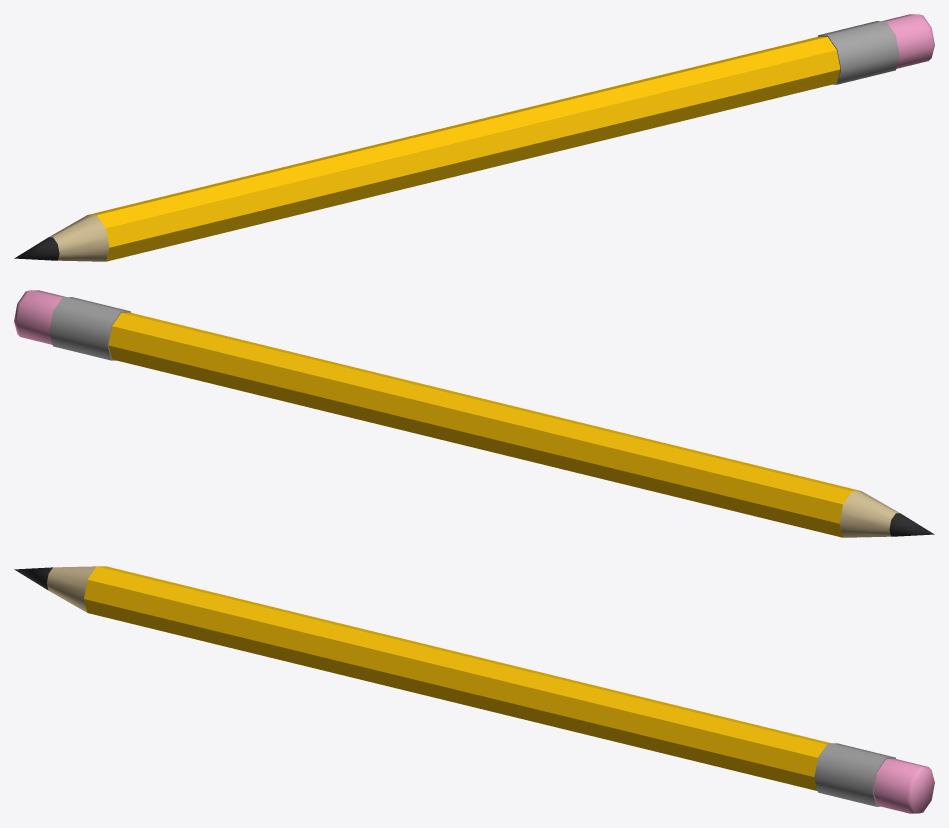
Rendered from Pencil.fbx.
3 views of the same model, one above another, from view 1: azimuth 30°, elevation 25°; view 2: azimuth 150°, elevation 25°; view 3: azimuth 330°, elevation 25° (orthographic).
Visible parts, largest first — view 1: Cube; view 2: Cube; view 3: Cube.
Boxes of the visible parts, x1,y1,x2,y2 form: Cube: (14,14,934,261); Cube: (14,290,934,537); Cube: (14,566,934,813).
Bounding box in the file's own units: 27.6 × 1.42 × 1.42.
